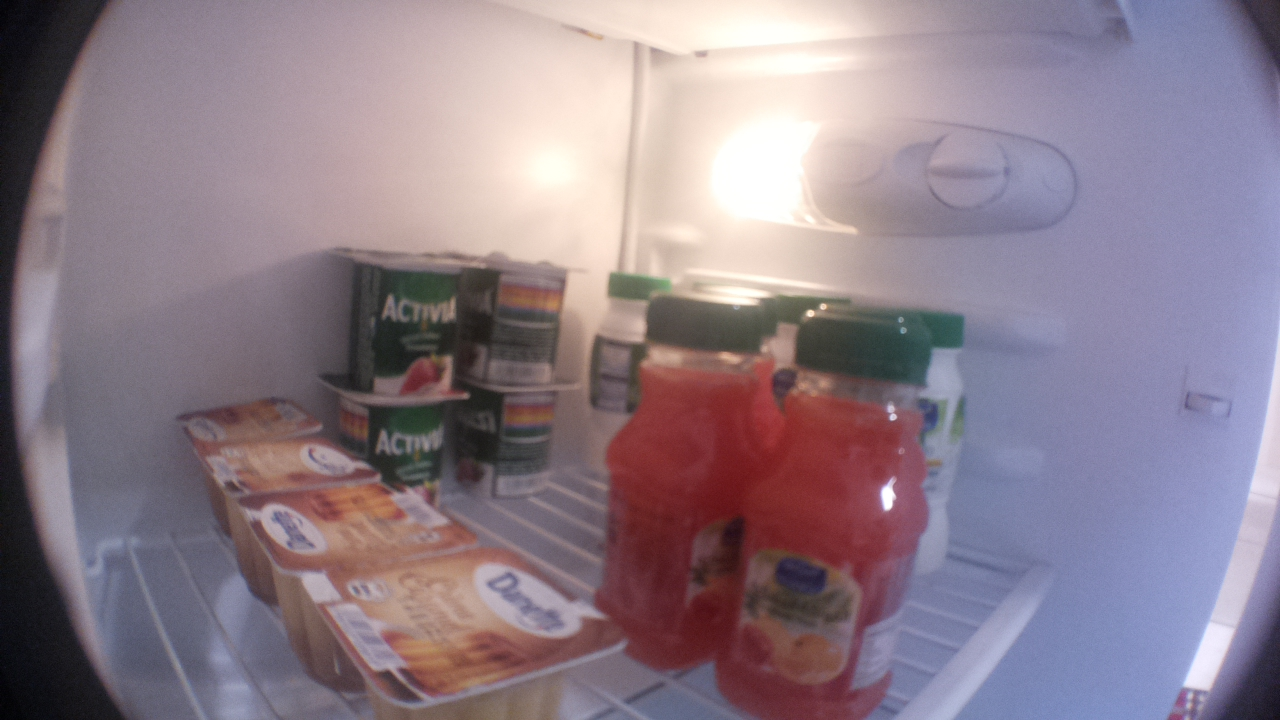caramel: (301, 539, 627, 710), (233, 479, 499, 574), (188, 437, 388, 486), (172, 392, 326, 448)
juice: (716, 309, 928, 720), (592, 297, 768, 678)
laban: (580, 270, 638, 471), (929, 311, 971, 574), (768, 290, 836, 393)
yoghurt: (334, 246, 486, 395), (449, 382, 598, 501), (481, 254, 598, 386), (324, 396, 457, 462)
